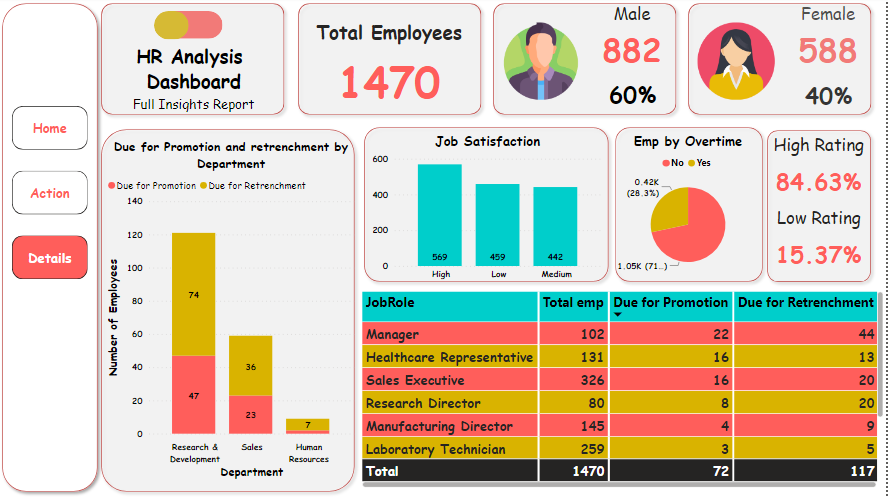

What the dashboard file says about the page in this screenshot:
{"tool":"powerbi","page":{"name":"Details","canvas":[1280,720],"ordinal":2},"visuals":[{"type":"shape","box":[0,0,155.2,720],"z":0},{"type":"shape","box":[705.5,0,280.5,178.1],"z":0,"group":"g11"},{"type":"shape","box":[237,19.8,89.6,40.4],"z":0,"group":"g1"},{"type":"card","title":"Total Employees","fields":{"Values":["All Measures.%Female"]},"box":[1128.1,113.5,136.5,56],"z":0,"group":"g4"},{"type":"card","title":"Male","fields":{"Values":["All Measures.Male"]},"box":[845,7.2,138,105.4],"z":1000,"group":"g13"},{"type":"card","title":"Female","fields":{"Values":["All Measures.Female"]},"box":[1126.7,7.2,138,106.3],"z":1000,"group":"g4"},{"type":"shape","box":[227.1,19.8,49.5,41],"z":1000,"group":"g1"},{"type":"shape","box":[881,178.2,229.9,240],"z":1000},{"type":"shape","box":[142.3,181.1,382.3,538.9],"z":1000,"group":"g6"},{"type":"card","title":"High Rating","fields":{"Values":["All Measures.%high"]},"box":[1112.5,195,140,110.7],"z":1000,"group":"g8"},{"type":"group","id":"g1","title":"Group 1","box":[142.9,0,280.5,178.1],"z":2000},{"type":"shape","box":[142.9,0,280.5,178.1],"z":2000,"group":"g1"},{"type":"shape","box":[425,0,280.5,178.1],"z":2000,"group":"g10"},{"type":"card","title":"Total Employees","fields":{"Values":["All Measures.% Male"]},"box":[846.4,112.6,136.5,55.6],"z":2000,"group":"g13"},{"type":"shape","box":[520.2,178.2,369.3,240],"z":2000,"group":"g7"},{"type":"textbox","box":[155.2,60.4,257.2,110],"z":3000,"group":"g1"},{"type":"shape","box":[1099.4,182.5,166.7,235.7],"z":3000},{"type":"group","id":"g2","title":"Group 3","box":[425,0,280.5,178.1],"z":4000},{"type":"shape","box":[986,0,280.5,178.1],"z":4000,"group":"g5"},{"type":"group","id":"g3","title":"Group 2","box":[705.5,0,280.5,178.1],"z":5000},{"type":"group","id":"g4","title":"Group 2","box":[1126.7,7.2,138,162.4],"z":6000},{"type":"image","box":[718.6,31.6,127.9,120.7],"z":7000},{"type":"group","id":"g5","title":"Group 6","box":[986,0,280.5,178.1],"z":8000},{"type":"group","id":"g6","title":"Group 12","box":[142.3,181.1,382.3,538.9],"z":9000},{"type":"group","id":"g7","title":"Group 13","box":[520.2,178.2,369.3,240],"z":10000},{"type":"pieChart","title":"Emp by Overtime","fields":{"Y":["CountNonNull(HR Analytics Data.OverTime)"],"Category":["HR Analytics Data.OverTime"]},"box":[889.6,192.6,209.8,214.1],"z":11000},{"type":"group","id":"g8","title":"Group 8","box":[1112.5,195,139.4,215.6],"z":12000},{"type":"columnChart","title":"Due for Promotion and retrenchment by Department","fields":{"Category":["HR Analytics Data.Department"],"Y":["All Measures.Due for Promotion","All Measures.retrench"]},"box":[155.2,202.7,365,495.8],"z":12001,"group":"g6"},{"type":"card","title":"Total Employees","fields":{"Values":["All Measures.Total emp"]},"box":[436.5,31.6,255.8,136.5],"z":12002,"group":"g10"},{"type":"columnChart","title":"Job Satisfaction","fields":{"Category":["HR Analytics Data.Job Satisfaction"],"Y":["All Measures.Total emp"]},"box":[536,192.6,340.6,224.2],"z":12002,"group":"g7"},{"type":"group","id":"g9","title":"Group 4","box":[425,0,280.5,178.1],"z":12004,"group":"g2"},{"type":"image","box":[1000.2,31.6,126.5,120.7],"z":12007,"group":"g5"},{"type":"group","id":"g10","title":"Group 7","box":[425,0,280.5,178.1],"z":12010,"group":"g9"},{"type":"group","id":"g11","title":"Group 5","box":[705.5,0,280.5,178.1],"z":12012,"group":"g3"},{"type":"card","title":"Low Rating","fields":{"Values":["All Measures.%low"]},"box":[1112.5,299.9,140,110.7],"z":13000,"group":"g8"},{"type":"tableEx","fields":{"Values":["HR Analytics Data.JobRole","All Measures.Total emp","All Measures.Due for Promotion","All Measures.retrench"]},"box":[520.2,418.2,760.2,291.7],"z":13000},{"type":"pageNavigator","box":[12.9,146.6,129.3,270.2],"z":14000},{"type":"group","id":"g12","title":"Group 15","box":[845,7.2,138,161],"z":16004,"group":"g11"},{"type":"group","id":"g13","title":"Group 16","box":[845,7.2,138,161],"z":16004,"group":"g12"}]}

Visuals, with their boxes in screenshot pixels (x1, y1, x2, y2), scaled from the page's 1280x720 canvas onto the 888x498 screenshot:
shape: 0,0,108,497
shape: 489,0,684,123
shape: 164,14,227,42
"Total Employees" card: 783,79,877,117
"Male" card: 586,5,682,78
"Female" card: 782,5,877,79
shape: 158,14,192,42
shape: 611,123,771,289
shape: 99,125,364,497
"High Rating" card: 772,135,869,211
"Group 1" group: 99,0,294,123
shape: 99,0,294,123
shape: 295,0,489,123
"Total Employees" card: 587,78,682,116
shape: 361,123,617,289
textbox: 108,42,286,118
shape: 763,126,878,289
"Group 3" group: 295,0,489,123
shape: 684,0,879,123
"Group 2" group: 489,0,684,123
"Group 2" group: 782,5,877,117
image: 499,22,587,105
"Group 6" group: 684,0,879,123
"Group 12" group: 99,125,364,497
"Group 13" group: 361,123,617,289
"Emp by Overtime" pieChart: 617,133,763,281
"Group 8" group: 772,135,869,284
"Due for Promotion and retrenchment by Department" columnChart: 108,140,361,483
"Total Employees" card: 303,22,480,116
"Job Satisfaction" columnChart: 372,133,608,288
"Group 4" group: 295,0,489,123
image: 694,22,782,105
"Group 7" group: 295,0,489,123
"Group 5" group: 489,0,684,123
"Low Rating" card: 772,207,869,284
tableEx - HR Analytics Data.JobRole x All Measures.Total emp: 361,289,887,491
pageNavigator: 9,101,99,288
"Group 15" group: 586,5,682,116
"Group 16" group: 586,5,682,116
